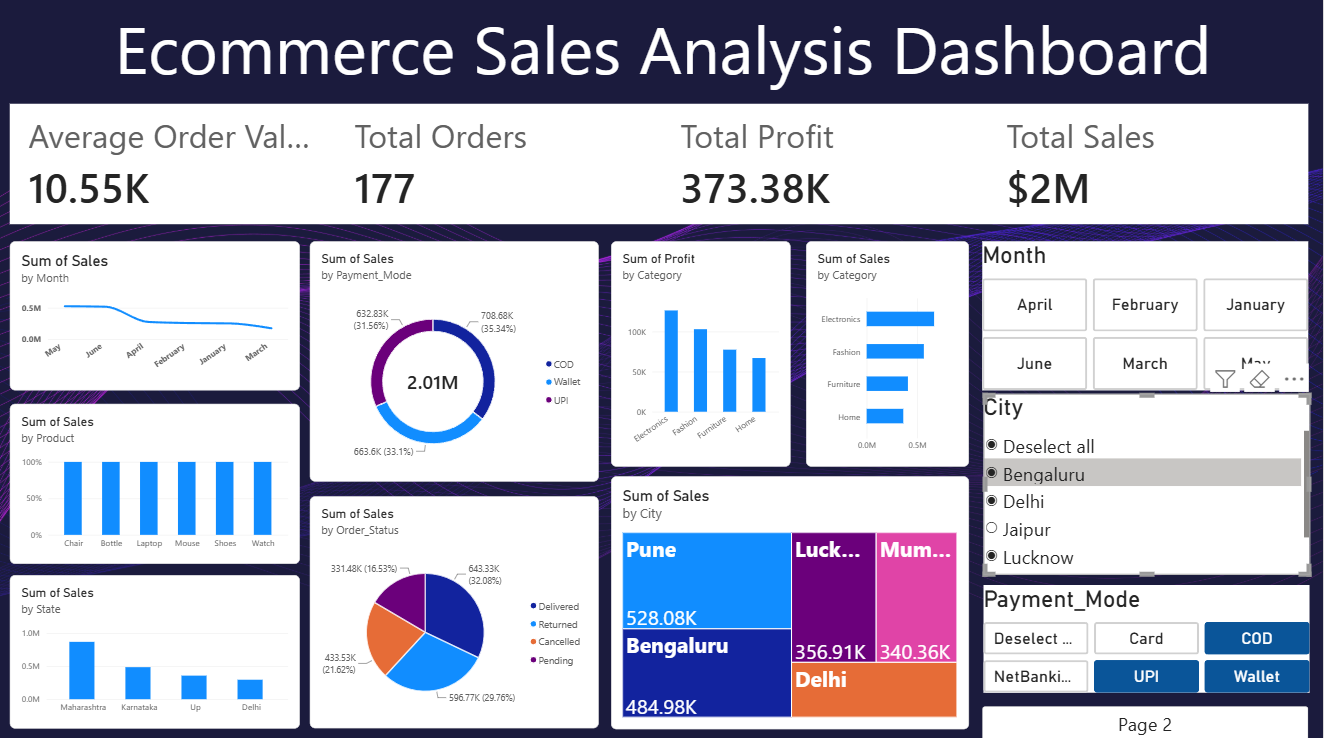

The page's visual inventory and layout, read from the dashboard file:
{"tool":"powerbi","page":{"name":"Page 1","canvas":[1920,1080],"ordinal":0},"visuals":[{"type":"cardVisual","fields":{"Data":["DAX Measure.Average Order Value","DAX Measure.Total Orders","DAX Measure.Total Profit","DAX Measure.Total Sales","DAX Measure.Average Order Value"]},"box":[20,158,1880,174],"z":0},{"type":"textbox","box":[10,10,1910,147.5],"z":1000},{"type":"lineChart","fields":{"Category":["public orders.Month"],"Y":["Sum(public orders.Sales)"]},"box":[20,356,420,216],"z":2000},{"type":"barChart","fields":{"Category":["public orders.Category"],"Y":["Sum(public orders.Sales)"]},"box":[1172,356,236,326],"z":3000},{"type":"hundredPercentStackedColumnChart","fields":{"Category":["public orders.Product"],"Y":["Sum(public orders.Sales)"]},"box":[20,592,420,232],"z":4000},{"type":"treemap","fields":{"Group":["public orders.City"],"Values":["Sum(public orders.Sales)"]},"box":[890,696,518,366],"z":5000},{"type":"donutChart","fields":{"Category":["public orders.Payment_Mode"],"Y":["Sum(public orders.Sales)"]},"box":[454,356,418,348],"z":6000},{"type":"pieChart","fields":{"Category":["public orders.Order_Status"],"Y":["Sum(public orders.Sales)"]},"box":[454,726,418,336],"z":7000},{"type":"columnChart","fields":{"Category":["public orders.State"],"Y":["Sum(public orders.Sales)"]},"box":[20,840,420,222],"z":8000},{"type":"columnChart","fields":{"Category":["public orders.Category"],"Y":["Sum(public orders.Profit)"]},"box":[890,356,260,326],"z":9000},{"type":"advancedSlicerVisual","fields":{"Values":["public orders.Month"]},"box":[1428,356,472,216],"z":10000},{"type":"listSlicer","fields":{"Values":["public orders.City"]},"box":[1429.6,577.3,472,262],"z":11000},{"type":"advancedSlicerVisual","fields":{"Values":["public orders.Payment_Mode"]},"box":[1429.6,854.2,472.3,155.6],"z":12000},{"type":"pageNavigator","box":[1427.8,1029.7,472.3,50.7],"z":13000}]}

Visuals, with their boxes in screenshot pixels (x1, y1, x2, y2), scaled from the page's 1920x1080 canvas onto the 1324x738 screenshot:
cardVisual - DAX Measure.Average Order Value x DAX Measure.Total Orders: rect(14, 108, 1310, 227)
textbox: rect(7, 7, 1323, 108)
lineChart - public orders.Month x Sum(public orders.Sales): rect(14, 243, 303, 391)
barChart - public orders.Category x Sum(public orders.Sales): rect(808, 243, 971, 466)
hundredPercentStackedColumnChart - public orders.Product x Sum(public orders.Sales): rect(14, 405, 303, 563)
treemap - public orders.City x Sum(public orders.Sales): rect(614, 476, 971, 726)
donutChart - public orders.Payment_Mode x Sum(public orders.Sales): rect(313, 243, 601, 481)
pieChart - public orders.Order_Status x Sum(public orders.Sales): rect(313, 496, 601, 726)
columnChart - public orders.State x Sum(public orders.Sales): rect(14, 574, 303, 726)
columnChart - public orders.Category x Sum(public orders.Profit): rect(614, 243, 793, 466)
advancedSlicerVisual - public orders.Month: rect(985, 243, 1310, 391)
listSlicer - public orders.City: rect(986, 394, 1311, 574)
advancedSlicerVisual - public orders.Payment_Mode: rect(986, 584, 1312, 690)
pageNavigator: rect(985, 704, 1310, 737)
